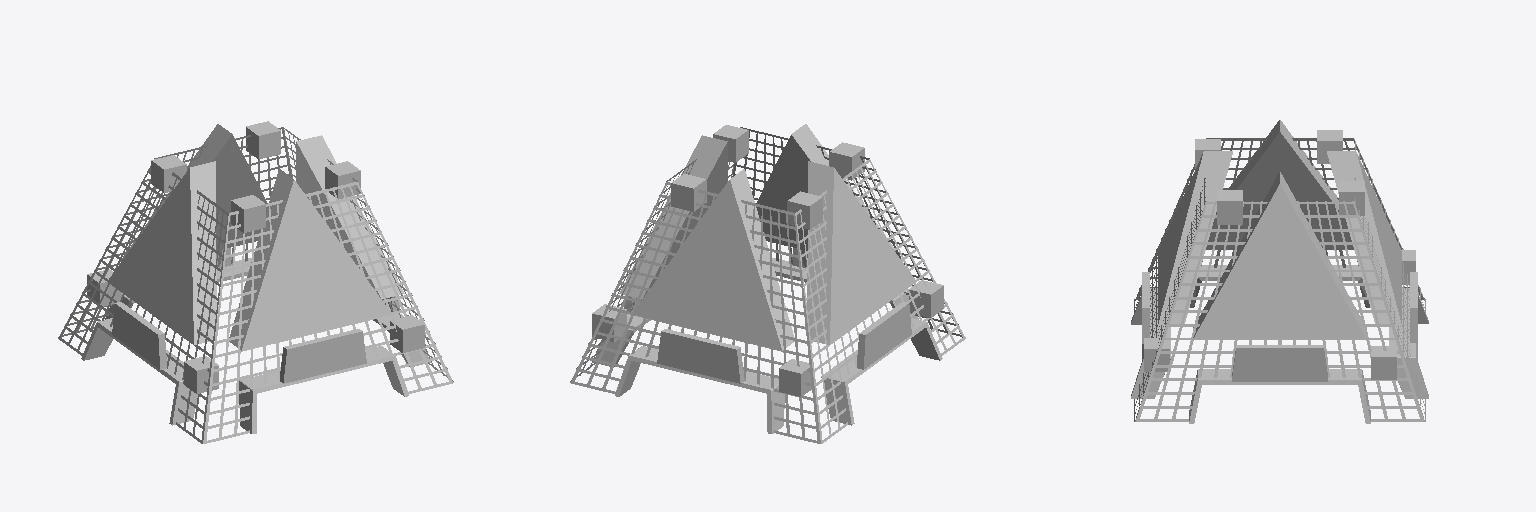
The model's file is TB1UpbCRVXXXXa6aXXXXXXXXXXX.obj.
3 views of the same model, side by side, from view 1: azimuth 30°, elevation 25°; view 2: azimuth 150°, elevation 25°; view 3: azimuth 270°, elevation 25° (orthographic).
Visible parts, largest first — view 1: polySurface39; view 2: polySurface39; view 3: polySurface39.
Boxes of the visible parts, x1=… form: polySurface39: x1=58, y1=121, x2=453, y2=443; polySurface39: x1=570, y1=124, x2=965, y2=443; polySurface39: x1=1131, y1=120, x2=1428, y2=423.
Size of the model in its own units: 11501 by 8893 by 11501.